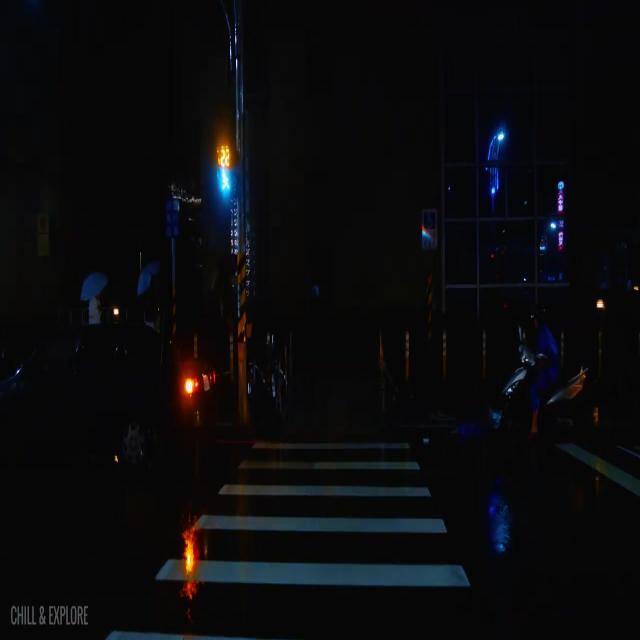Car: (10, 321, 211, 470)
